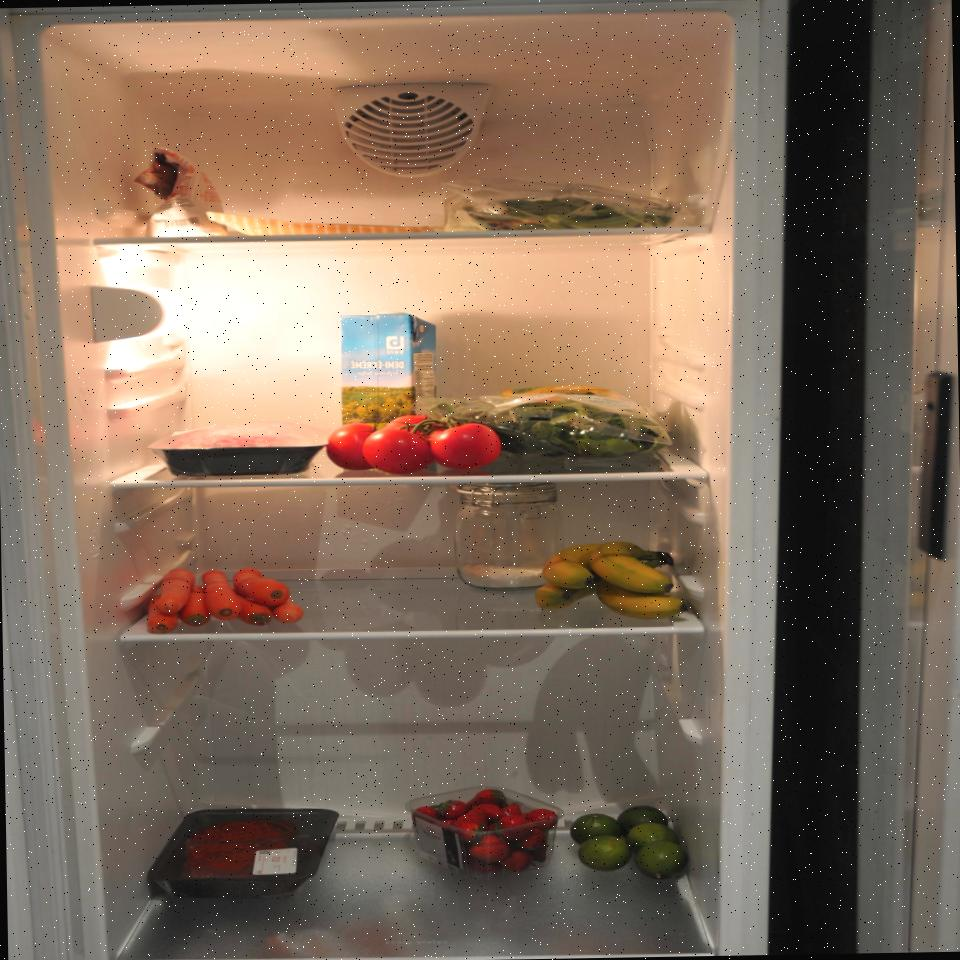Leche: (340, 308, 440, 453)
Plátano: (533, 538, 687, 624)
Tomate: (318, 409, 504, 480)
Zanahoria: (134, 564, 308, 635)
